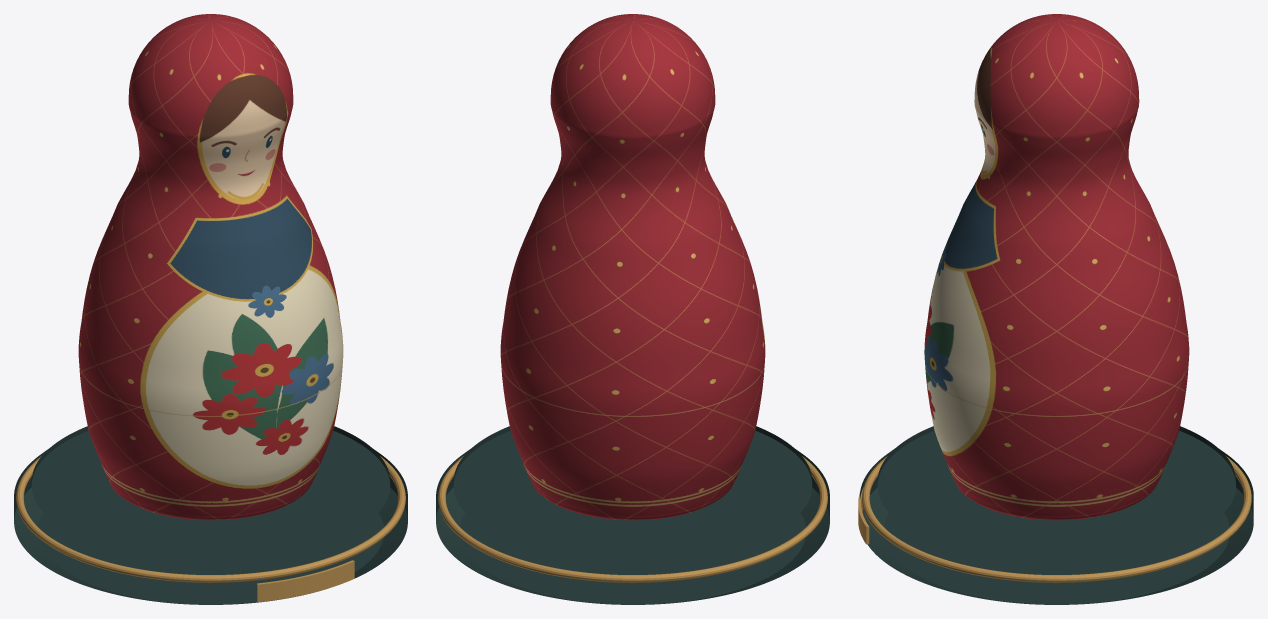
File: russia-matryoshka.glb
3 renders of one model, left to right at view 1: azimuth 30°, elevation 25°; view 2: azimuth 150°, elevation 25°; view 3: azimuth 270°, elevation 25°, orthographic.
Parts seen in each view (by area): view 1: Floral matryoshka; view 2: Floral matryoshka; view 3: Floral matryoshka.
Boxes of the visible parts, x1,y1,x2,y2 form: Floral matryoshka: (14,14,407,604); Floral matryoshka: (436,14,829,604); Floral matryoshka: (858,14,1253,604).
Bounding box in the file's own units: 1.96 × 2.8 × 1.97.
3 materials, 1 textured.
